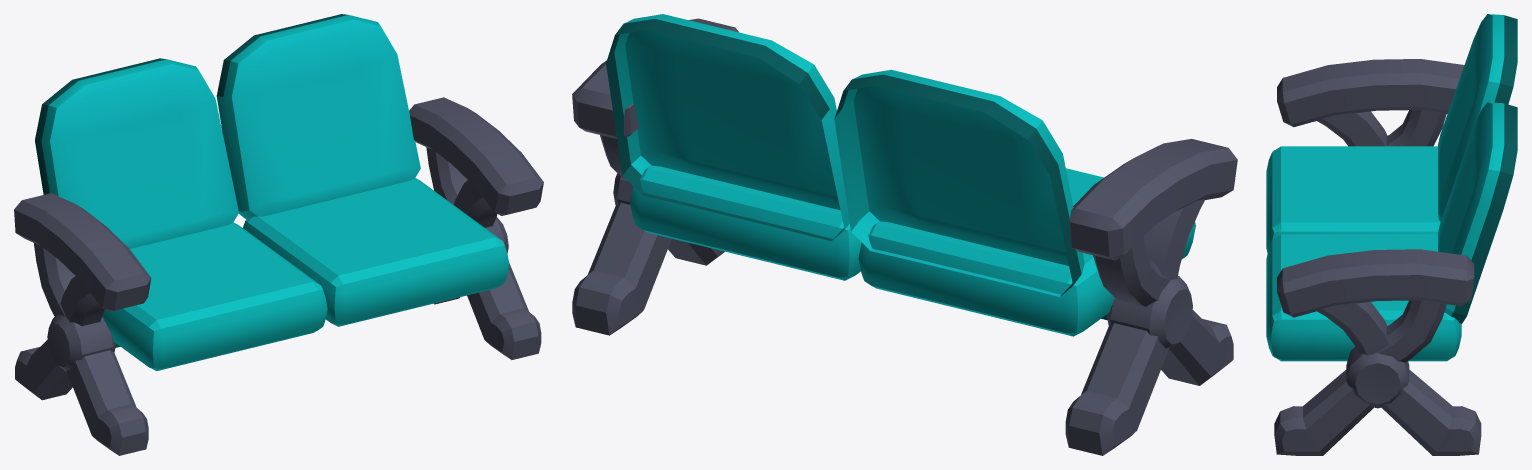
File: bench_2.fbx
The picture shows the model from 3 angles, left to right: view 1: azimuth 30°, elevation 25°; view 2: azimuth 150°, elevation 25°; view 3: azimuth 270°, elevation 25°; orthographic projection. The views are drawn at different scales.
Parts seen in each view (by area): view 1: bench_2; view 2: bench_2; view 3: bench_2.
Part boxes in pixels (box(x1,y1,x2,y2)): bench_2: box(14, 14, 543, 455); bench_2: box(572, 14, 1237, 455); bench_2: box(1266, 14, 1517, 455).
Bounding box in the file's own units: 70.9 × 42.53 × 35.36.
